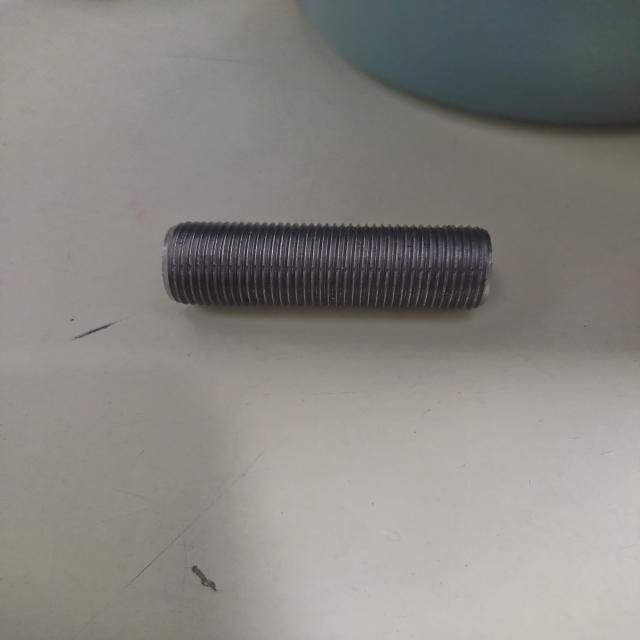Normal: (162, 220, 492, 310)
